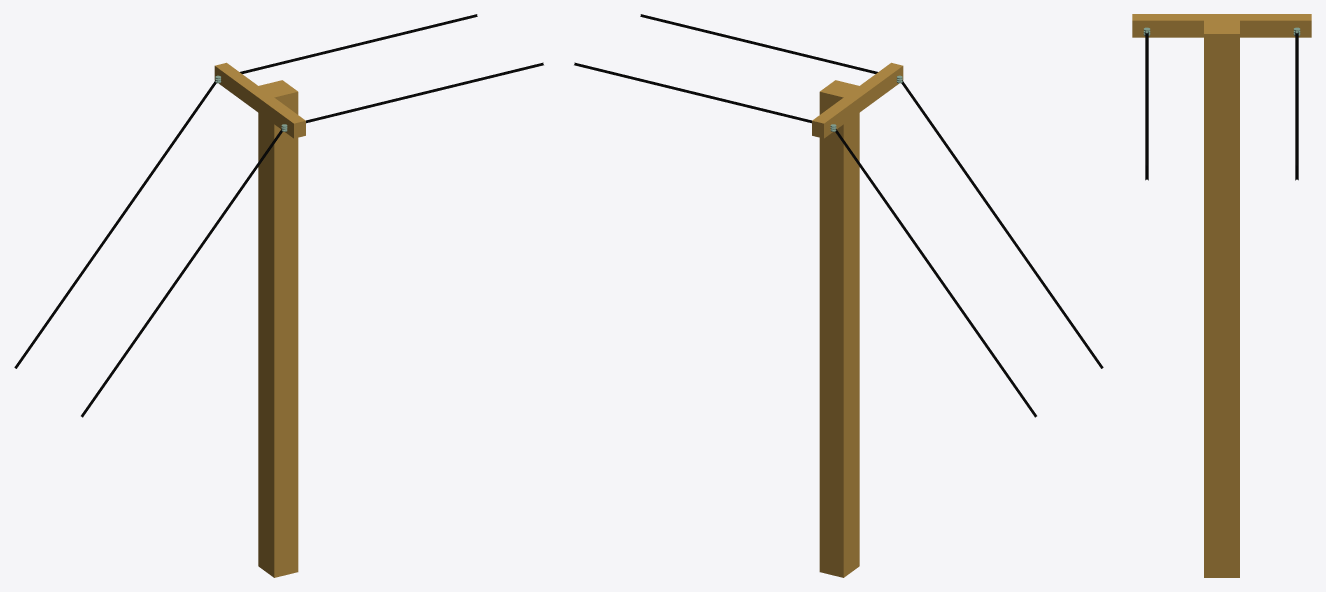
3 renders of one model, left to right at view 1: azimuth 30°, elevation 25°; view 2: azimuth 150°, elevation 25°; view 3: azimuth 270°, elevation 25°, orthographic. The views are drawn at different scales.
Parts seen in each view (by area): view 1: WR18 | archived geometry, WR18 | line, light and sprite surfaces; view 2: WR18 | archived geometry, WR18 | line, light and sprite surfaces; view 3: WR18 | archived geometry, WR18 | line, light and sprite surfaces.
Boxes of the visible parts, box(x1,y1,x2,y2) form: WR18 | archived geometry: box(214, 62, 305, 577); WR18 | line, light and sprite surfaces: box(14, 14, 543, 417); WR18 | archived geometry: box(812, 62, 903, 577); WR18 | line, light and sprite surfaces: box(574, 14, 1103, 417); WR18 | archived geometry: box(1132, 14, 1311, 577); WR18 | line, light and sprite surfaces: box(1145, 31, 1298, 180).
Bounding box in the file's own units: 16.14 × 16 × 4.78.
